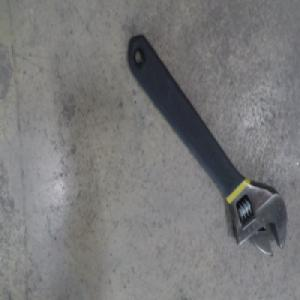AdjustableWrench: (126, 32, 287, 255)
